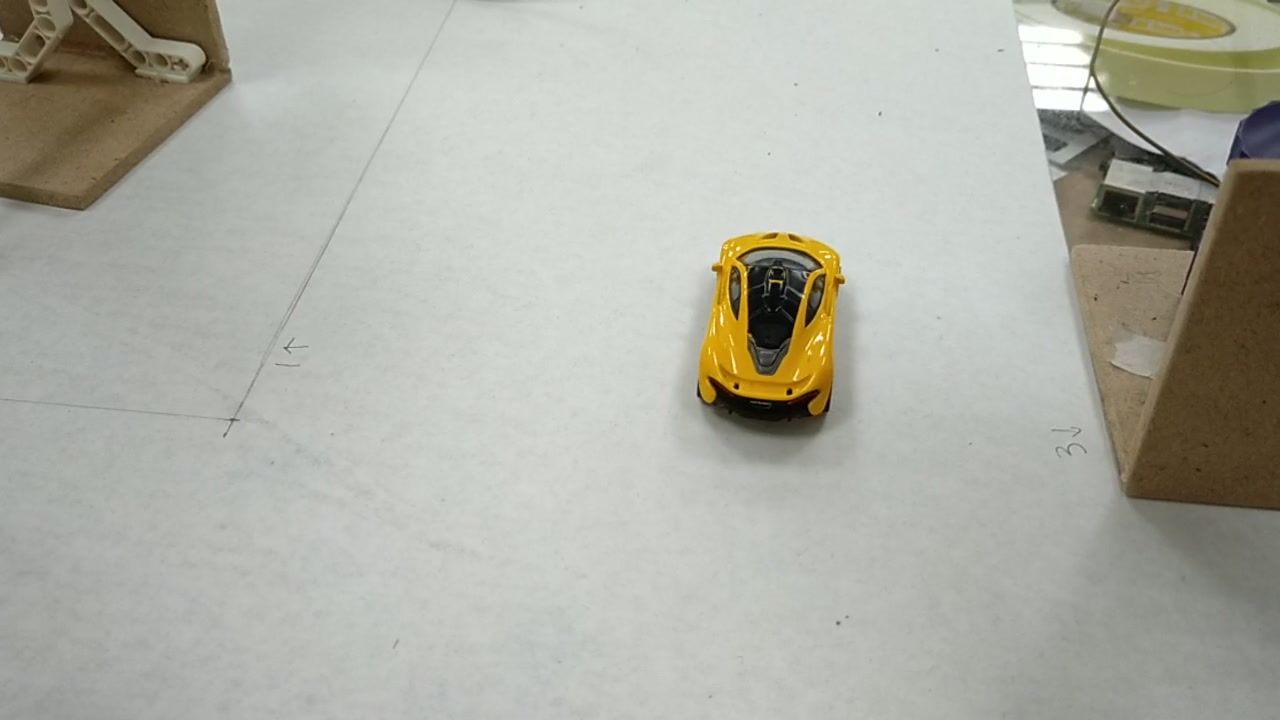car: (696, 233, 851, 411)
